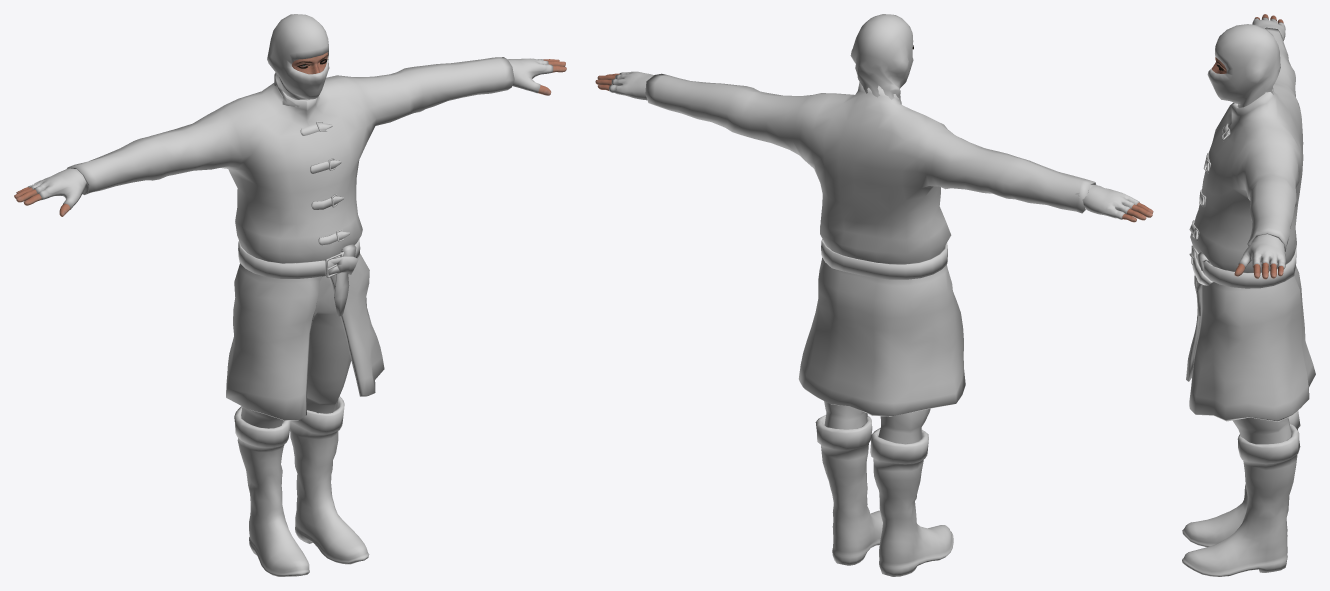
Rendered from Enemy Character 4.obj.
The picture shows the model from 3 angles, left to right: view 1: azimuth 30°, elevation 25°; view 2: azimuth 150°, elevation 25°; view 3: azimuth 270°, elevation 25°; orthographic projection. The views are drawn at different scales.
Parts seen in each view (by area): view 1: Tops, Shoes, Bottoms, Masks, Gloves, Body; view 2: Tops, Shoes, Masks, Bottoms, Gloves; view 3: Tops, Shoes, Masks, Gloves, Bottoms, Body.
Boxes of the visible parts, <box> form: Tops: <box>67,57,514,420</box>; Shoes: <box>234,396,369,576</box>; Bottoms: <box>241,275,351,428</box>; Masks: <box>267,14,329,107</box>; Gloves: <box>28,58,553,209</box>; Body: <box>14,52,566,216</box>; Tops: <box>645,73,1096,416</box>; Shoes: <box>815,415,953,576</box>; Masks: <box>850,14,913,104</box>; Bottoms: <box>824,401,930,443</box>; Gloves: <box>609,71,1139,219</box>; Tops: <box>1186,27,1315,421</box>; Shoes: <box>1182,410,1300,576</box>; Masks: <box>1207,24,1280,107</box>; Gloves: <box>1237,17,1285,268</box>; Bottoms: <box>1211,264,1291,444</box>; Body: <box>1211,14,1283,279</box>.
Size of the model in its own units: 194 by 181 by 41.45.
